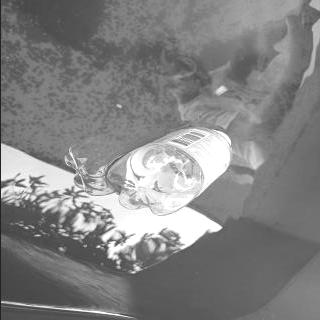bottle: (106, 126, 232, 216)
